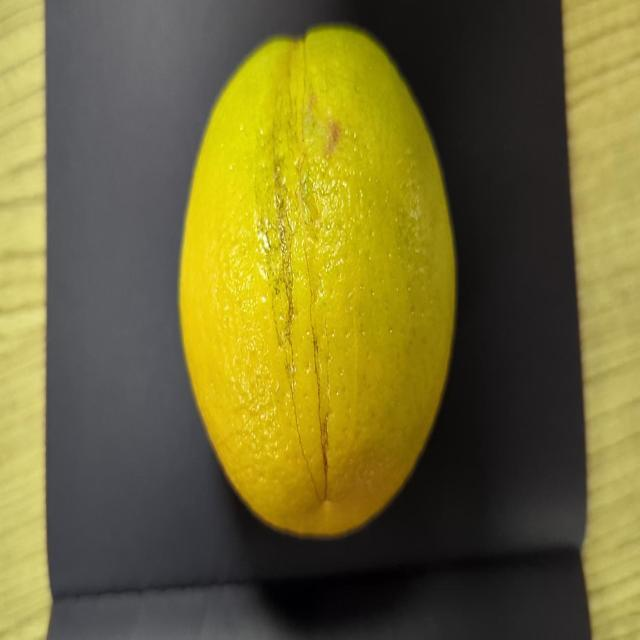Jeruk: (178, 41, 444, 538)
